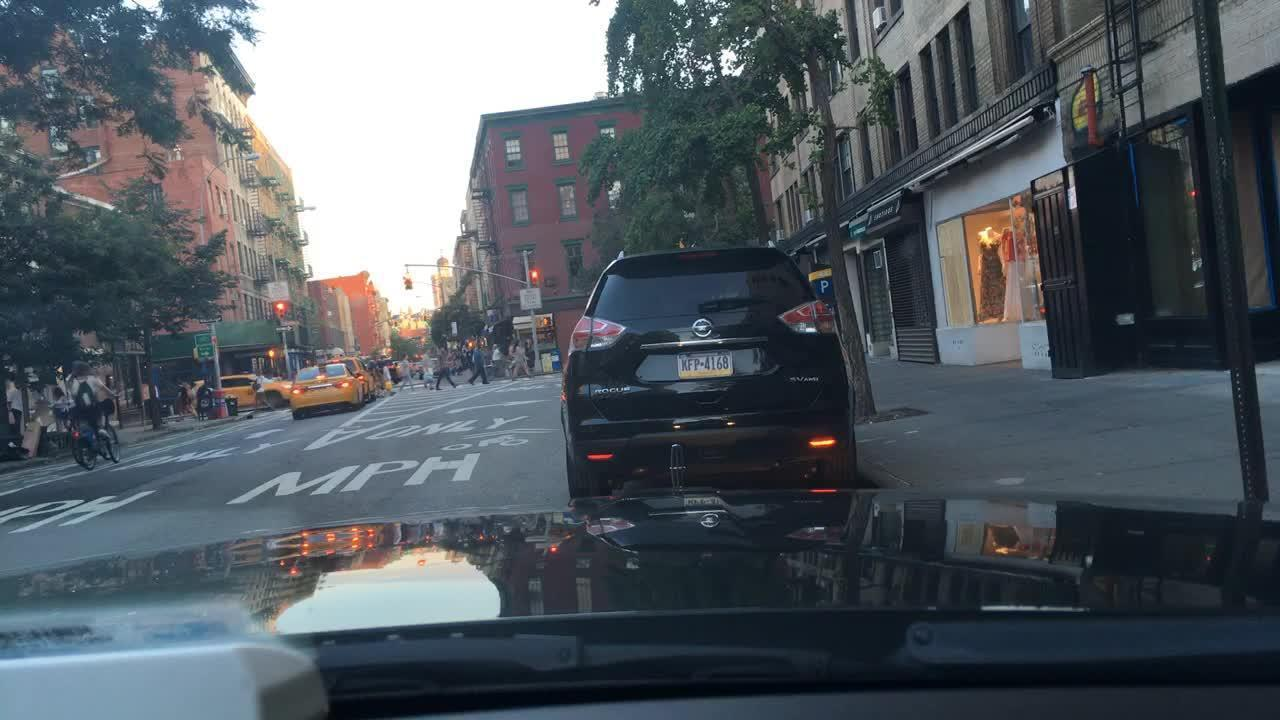Nissan: (686, 314, 724, 343)
